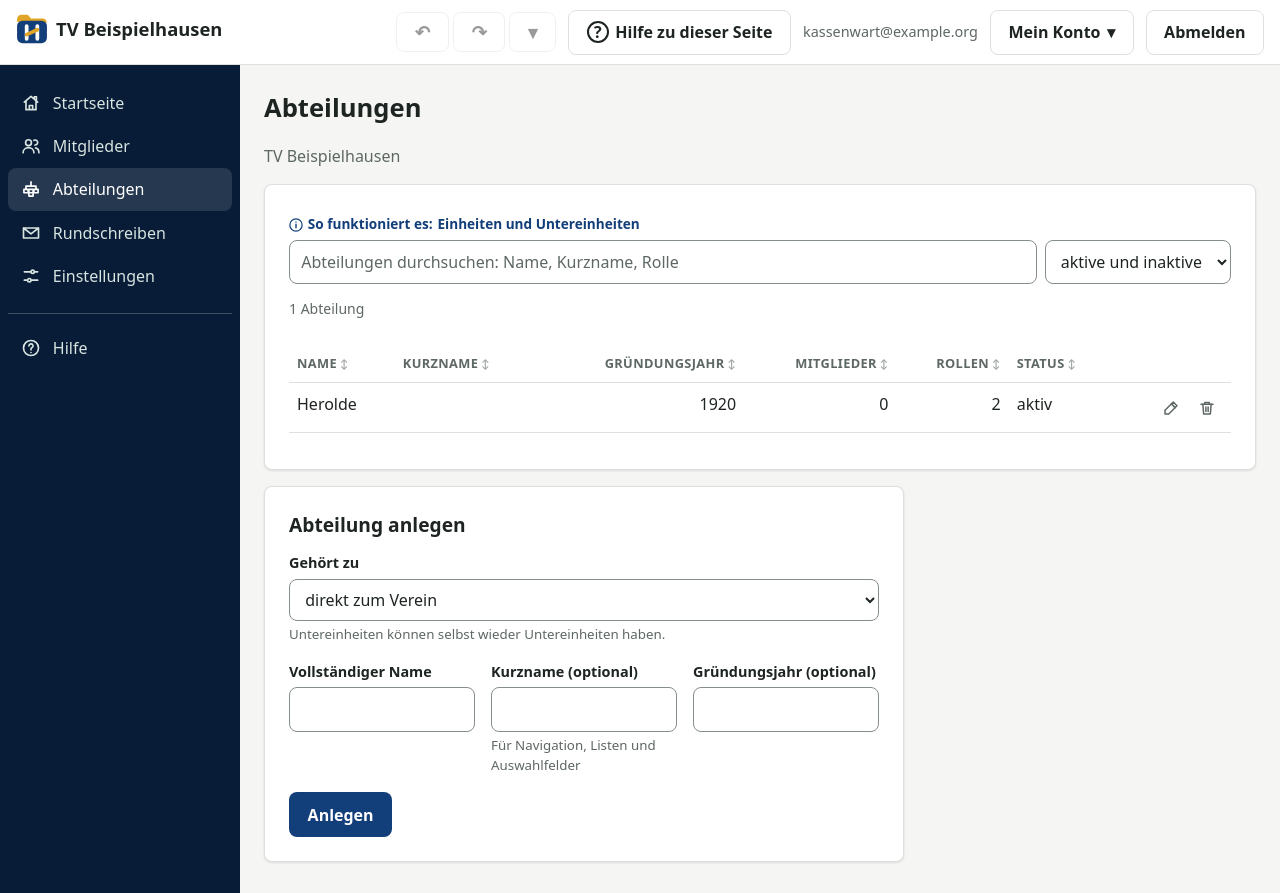
Test: Abteilungsrollen entfernen › vergibt ein Amt ohne Konto direkt bei der Untereinheit
The width and height of the screenshot is (1280, 893).
Click the button named "Herolde bearbeiten" at (1171, 408), box x1=1155 y1=392 x2=1187 y2=424
(page scrolled)
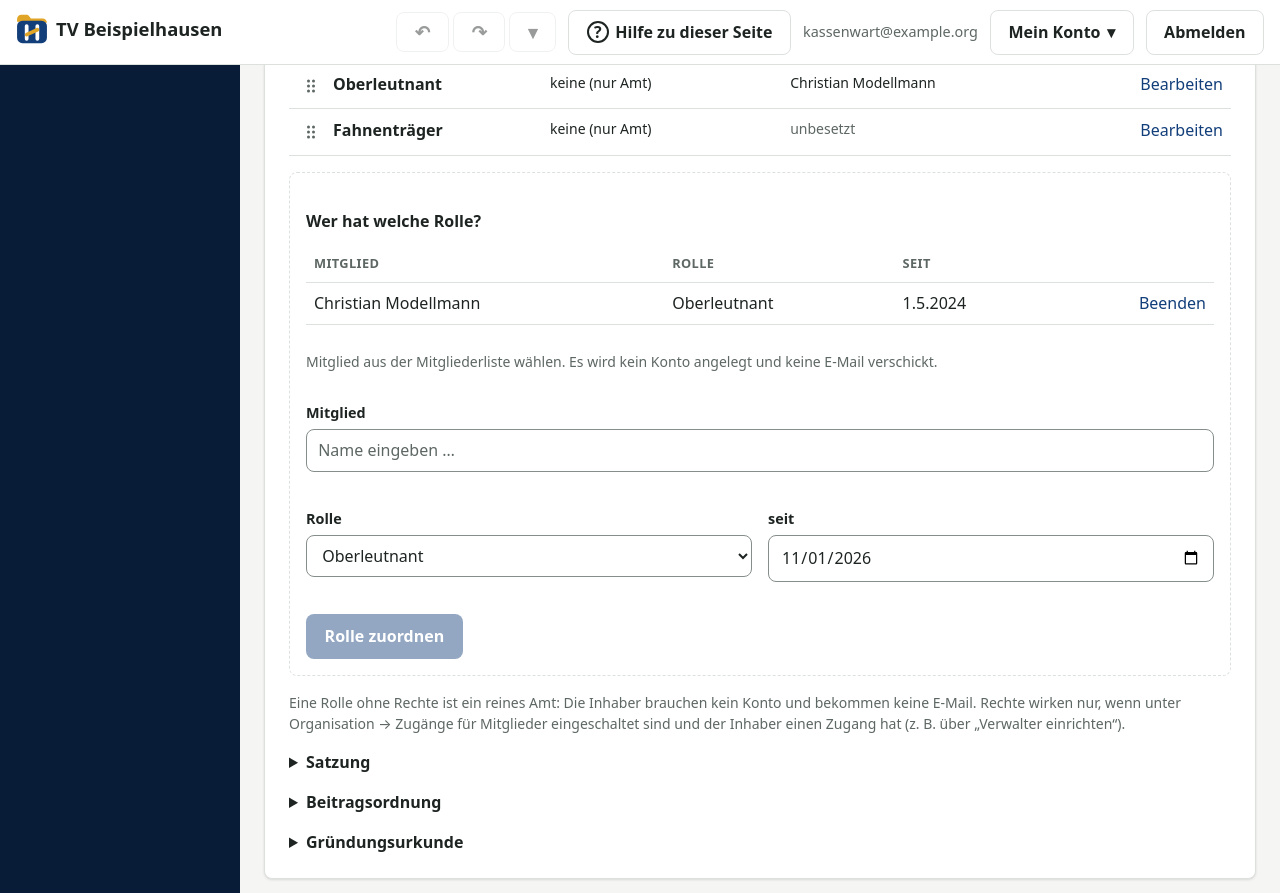
Expected: the text "Christian Modellmann" in the row of "1.5.2024" is shown, x1=314 y1=292 x2=480 y2=314
Expected: the text "kein Konto angelegt und keine E-Mail" is shown, x1=306 y1=352 x2=938 y2=371
Type "An" into the search field named "Mitglied" at (760, 450), box x1=306 y1=429 x2=1214 y2=472
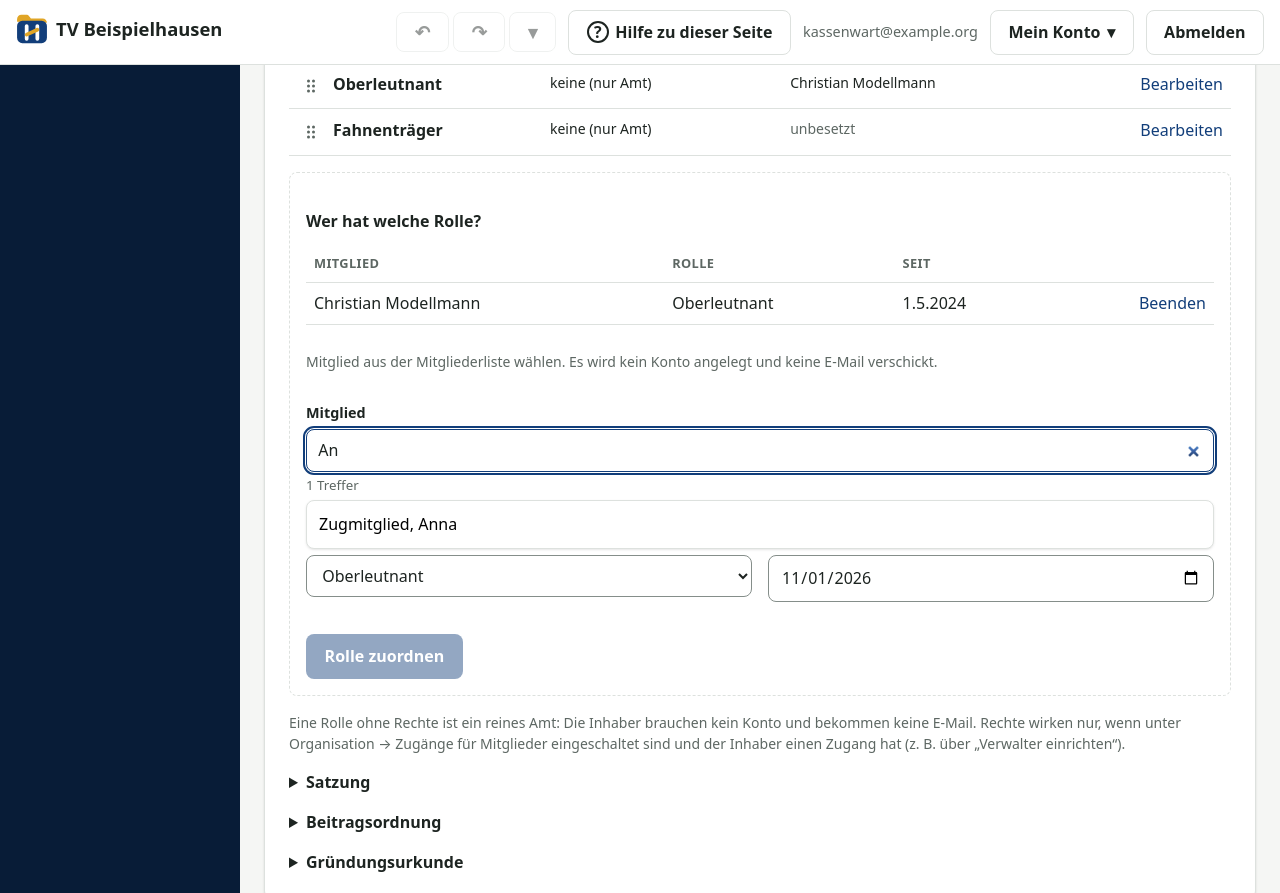
Click the button "Zugmitglied, Anna" at (364, 524), box x1=307 y1=505 x2=1213 y2=544
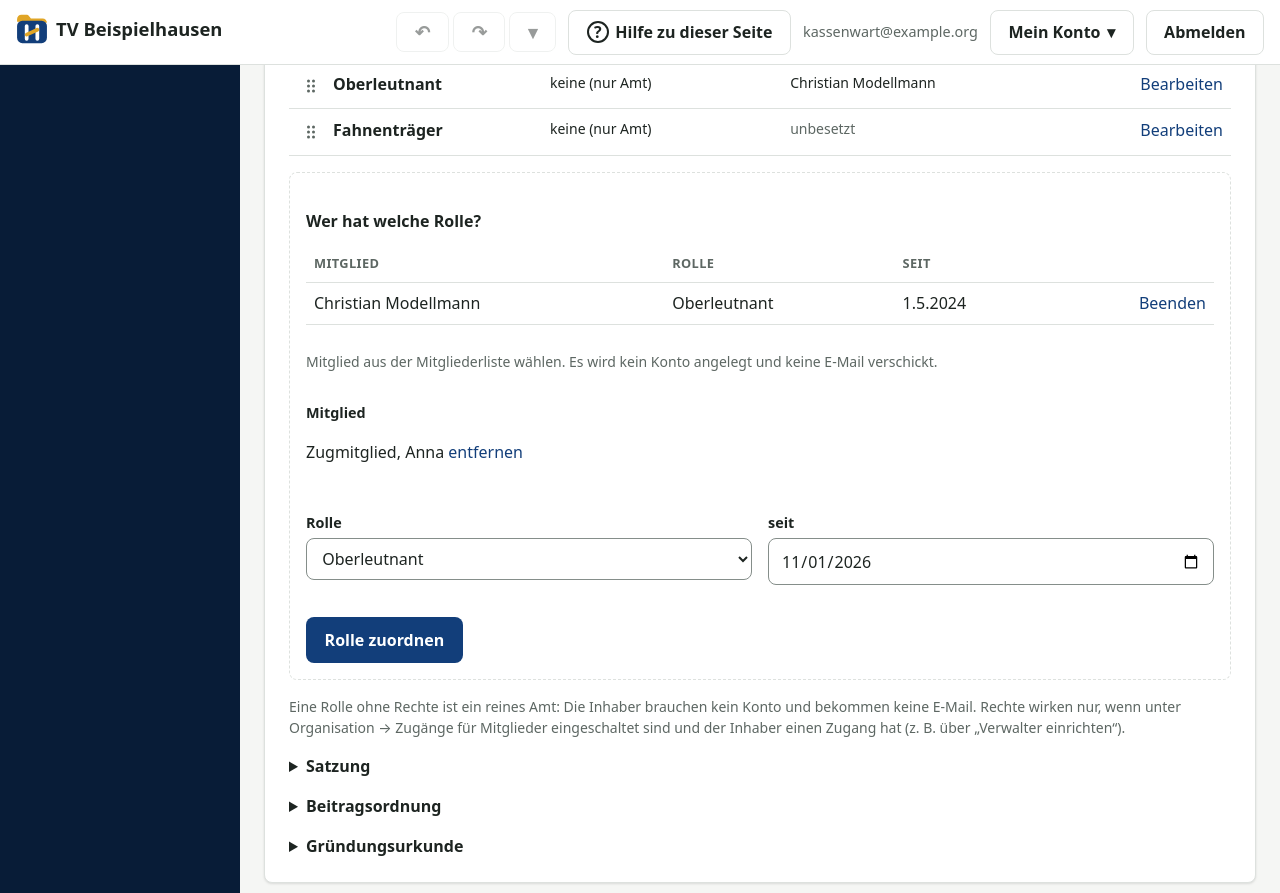
Select "Fahnenträger" in the dropdown labelled "Rolle" at (529, 559), box x1=306 y1=538 x2=752 y2=580
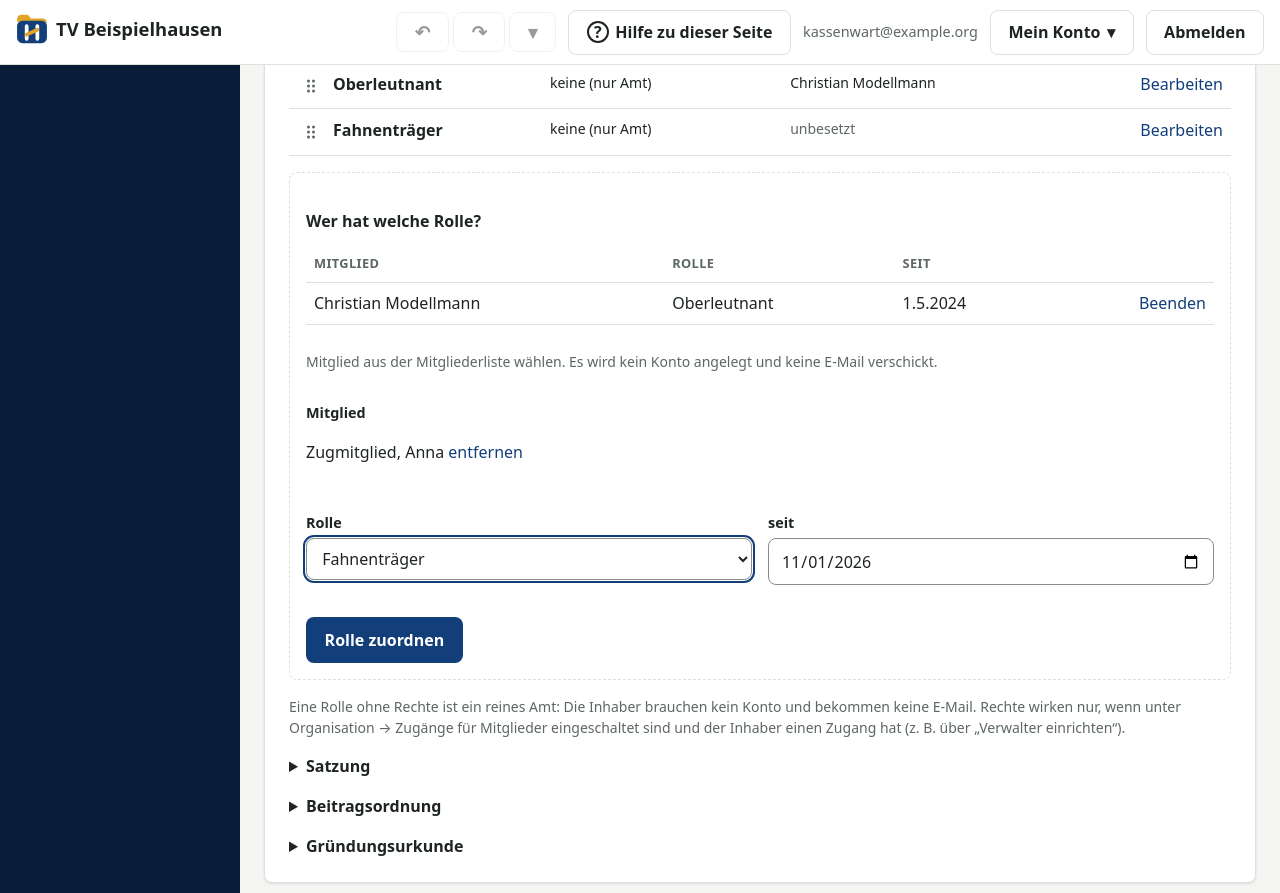
Click the button "Rolle zuordnen" at (384, 640), box x1=306 y1=618 x2=463 y2=663
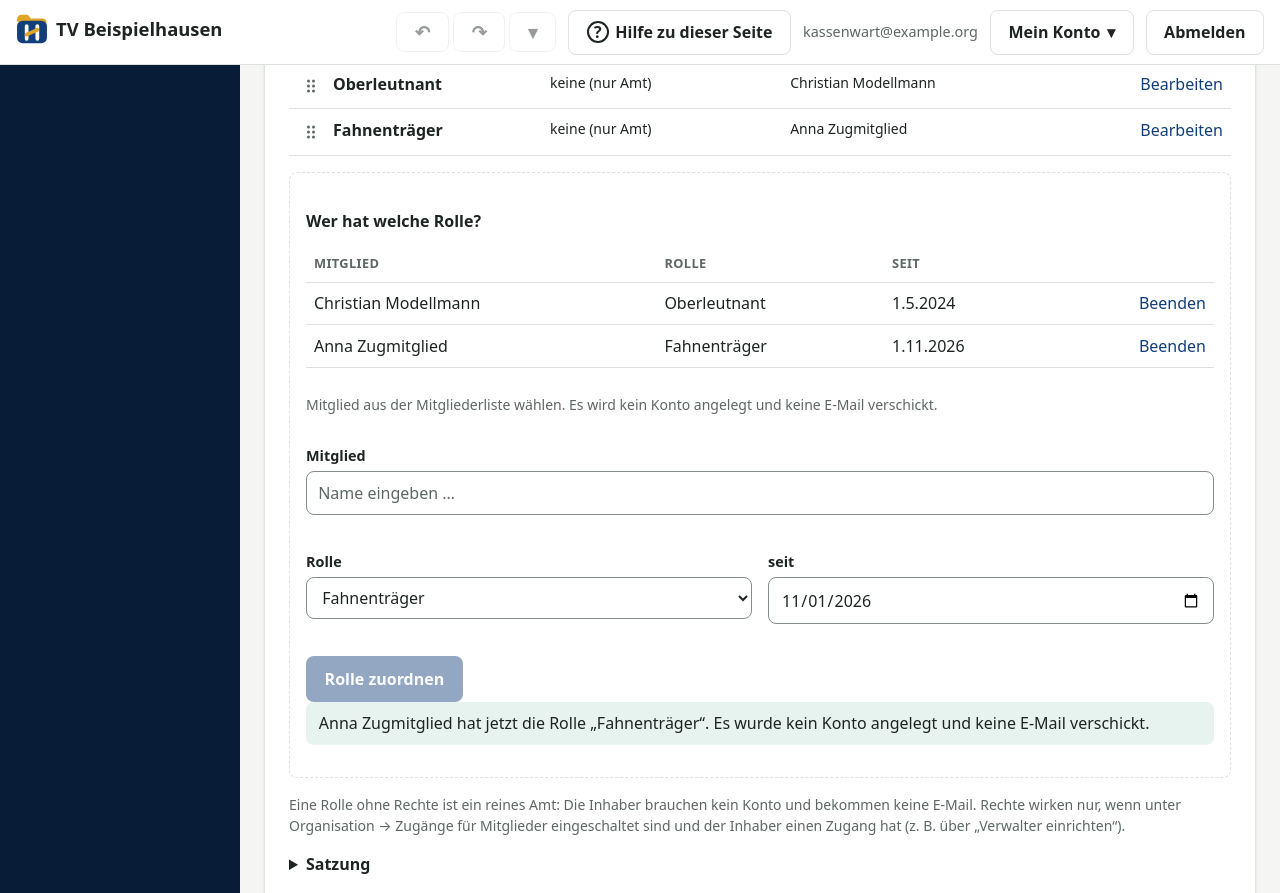
Expected: the text "Anna Zugmitglied hat jetzt die Rolle" is shown, x1=319 y1=712 x2=1149 y2=734
